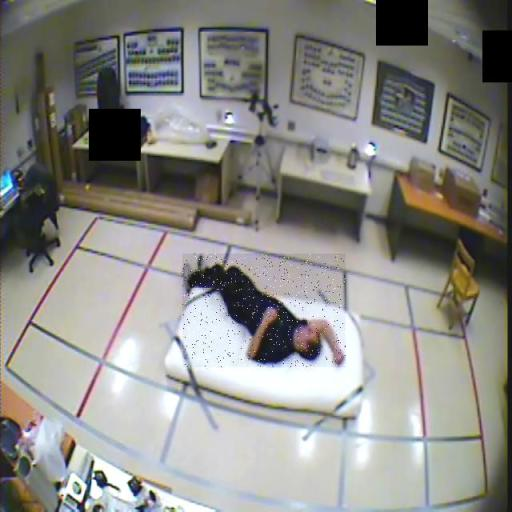Fall: (183, 254, 346, 367)
